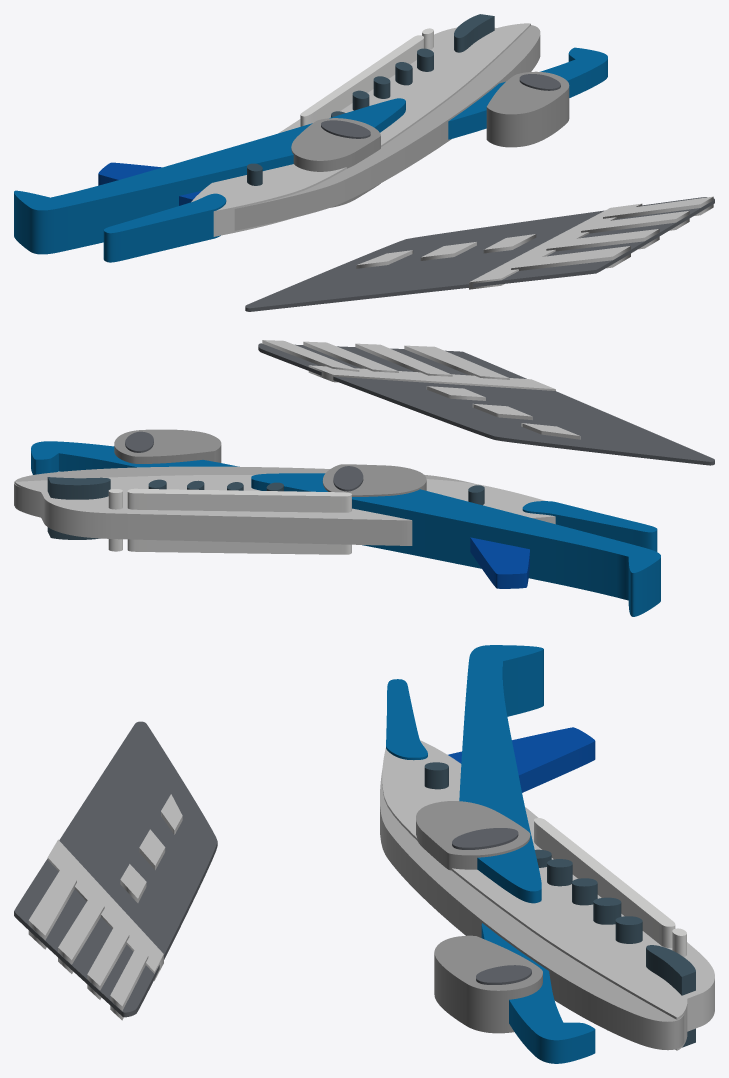
Rendered from emoji_u1f6eb.glb.
3 renders of one model, top to bottom at view 1: azimuth 30°, elevation 25°; view 2: azimuth 150°, elevation 25°; view 3: azimuth 270°, elevation 25°, orthographic. The views are drawn at different scales.
Visible parts, largest first — view 1: emoji_u1f6eb; view 2: emoji_u1f6eb; view 3: emoji_u1f6eb.
Boxes of the visible parts, bbox=[...] form: emoji_u1f6eb: bbox=[14, 14, 714, 311]; emoji_u1f6eb: bbox=[14, 340, 714, 616]; emoji_u1f6eb: bbox=[14, 645, 714, 1063].
Bounding box in the file's own units: 0.0344 × 0.0032 × 0.0269.
